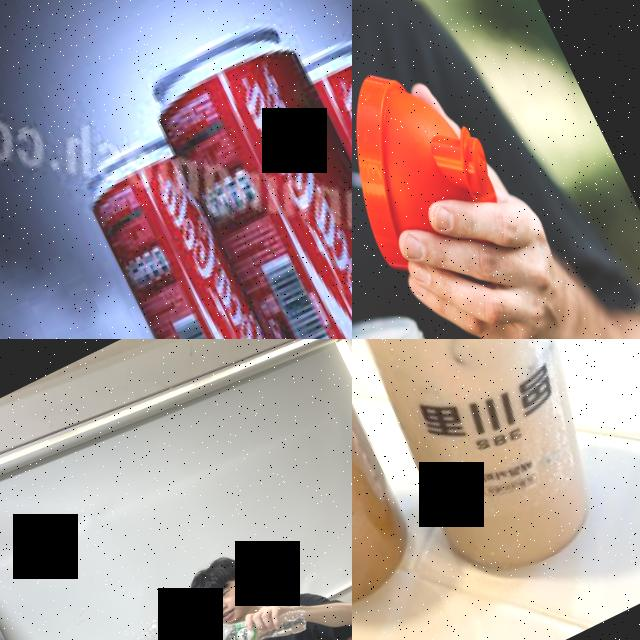bottle: (204, 590, 313, 640), (74, 613, 185, 640)
can: (352, 339, 640, 609), (133, 7, 352, 339), (73, 132, 293, 339), (352, 339, 436, 640), (298, 22, 352, 325)
